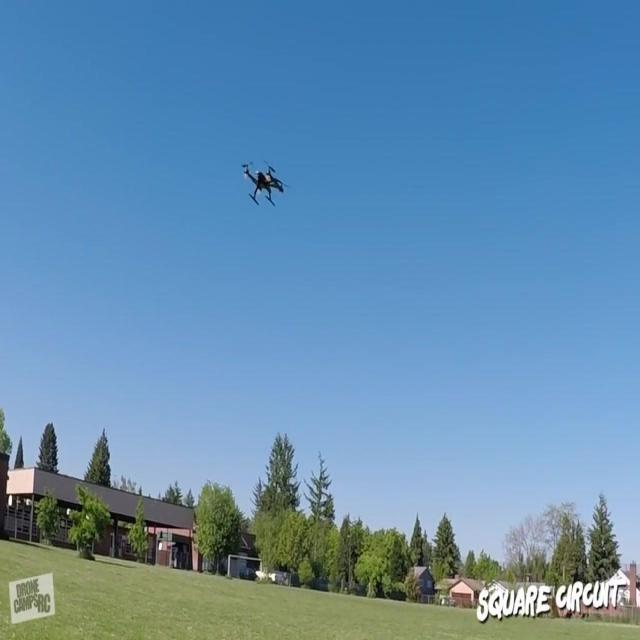drone: (242, 159, 292, 213)
